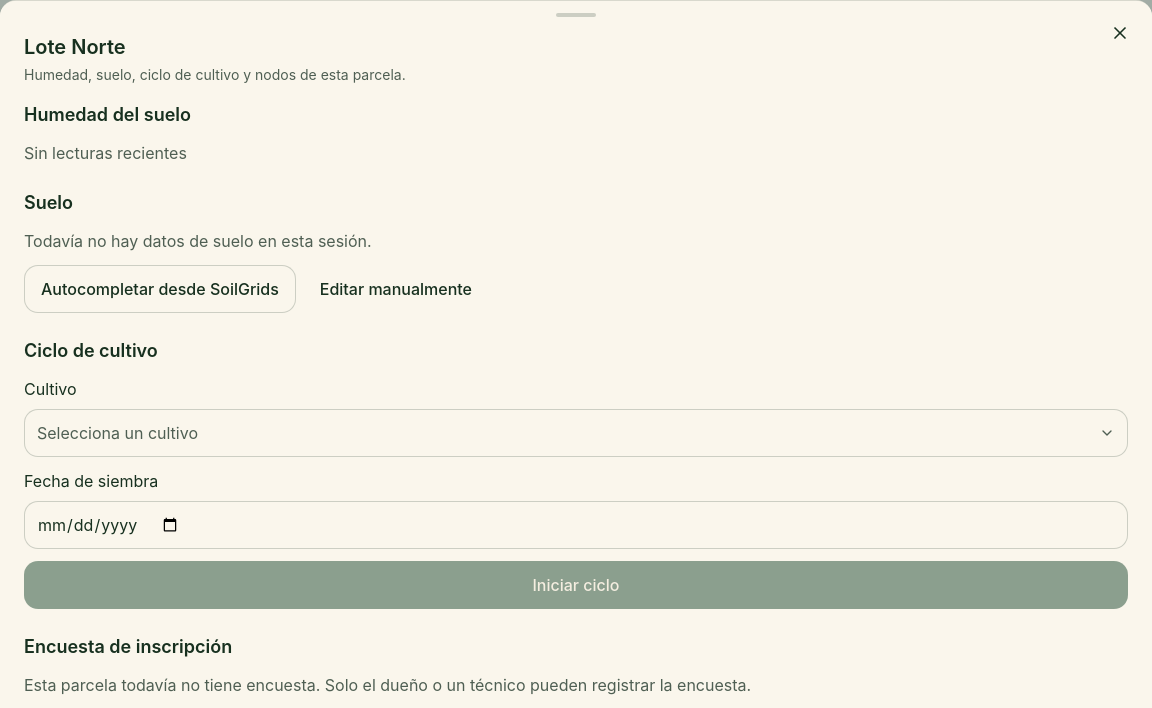
Scenario: PlotDetailSheet › shows the crop's Kc by stage once a crop is selected
Step 1. Click the dropdown → (118,433), box [24, 409, 1128, 457]
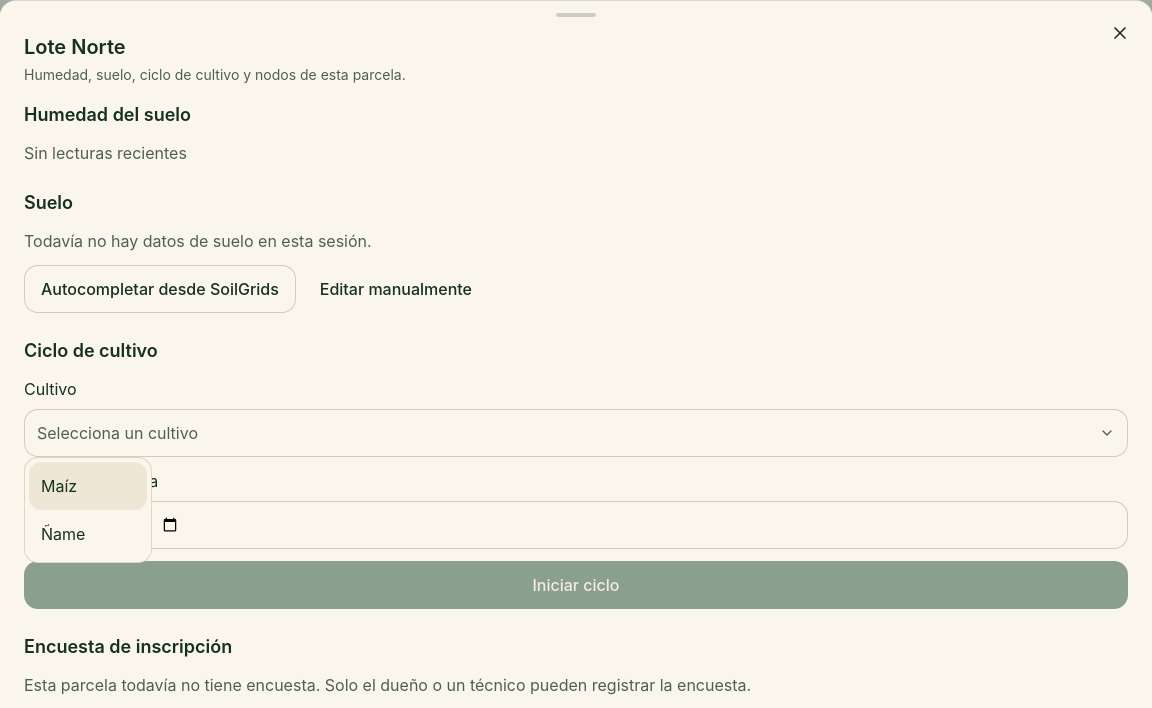
Step 2. Click the option "Maíz" → (88,486), box [29, 462, 147, 510]
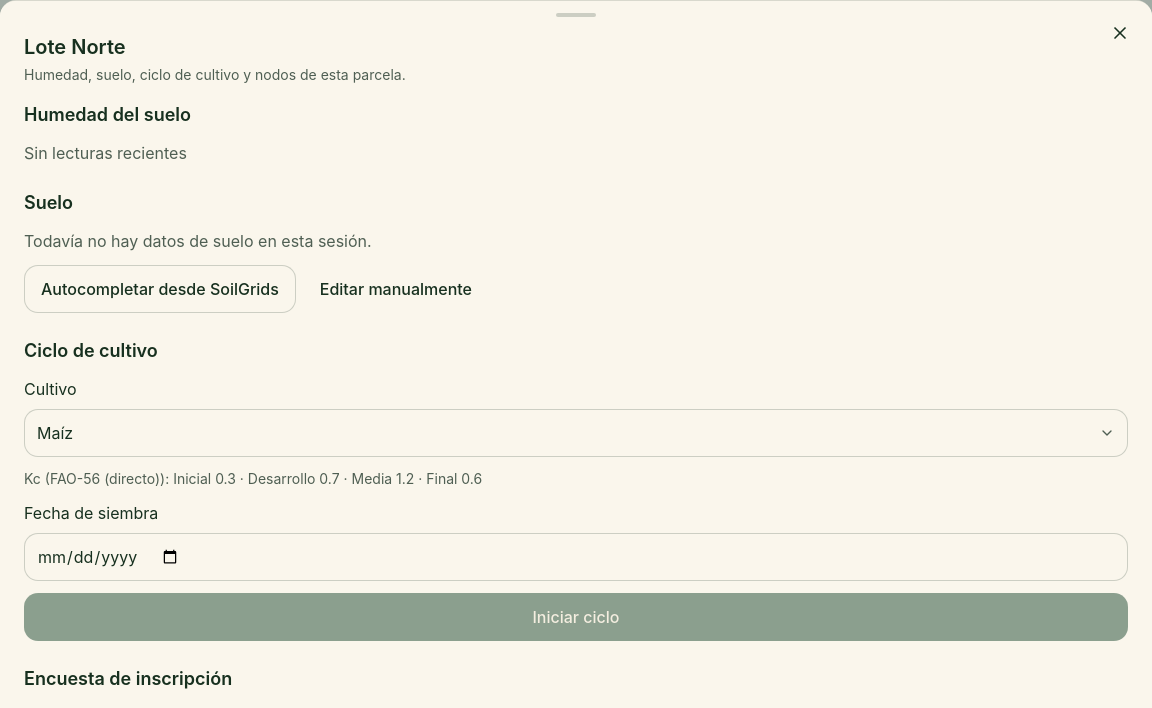
Expected: the text "Kc (FAO-56 (directo)): Inicial 0.3 · Desarrollo 0.7 · Media 1.2 · Final 0.6" is shown, [24, 470, 482, 487]
